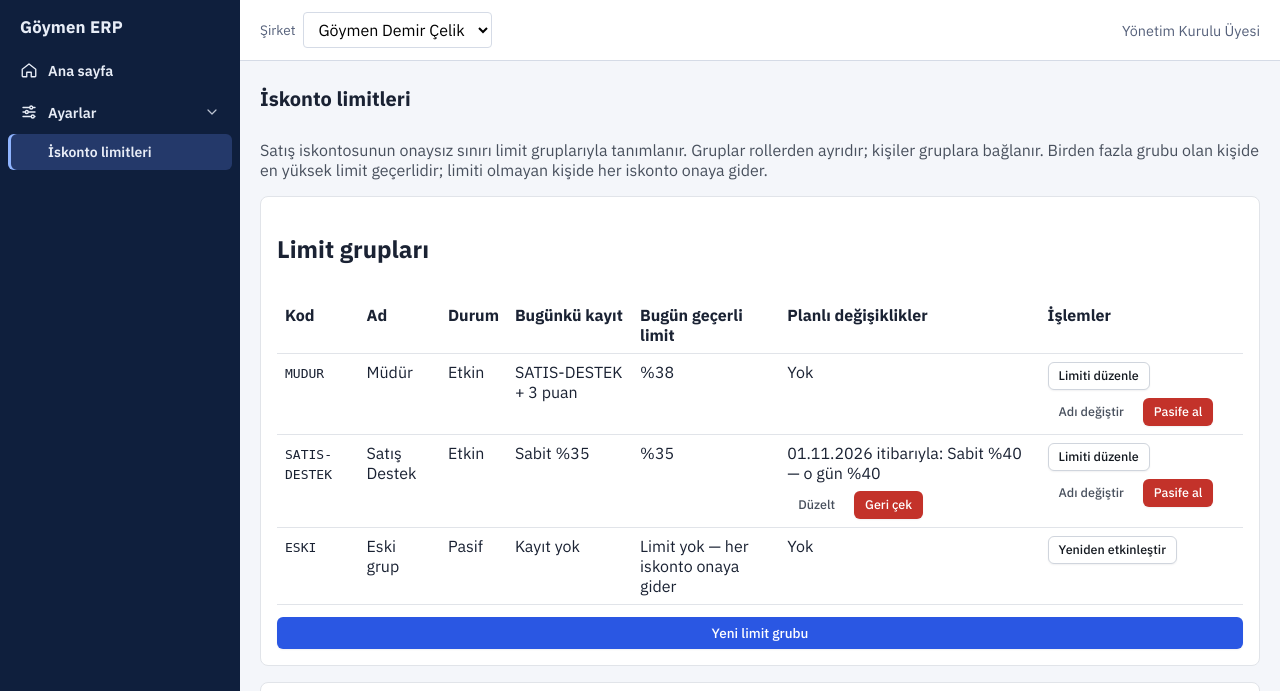
Test: İskonto limitleri — groups › SAT-D118: reactivates a passive group with a reason
This screenshot has width=1280, height=691.
Expected: the table named "Limit grupları ve limitleri" is shown, [277,297,1243,605]
Click the button "Yeniden etkinleştir" at (1112, 550), box [1048,536,1177,564]
(page scrolled)
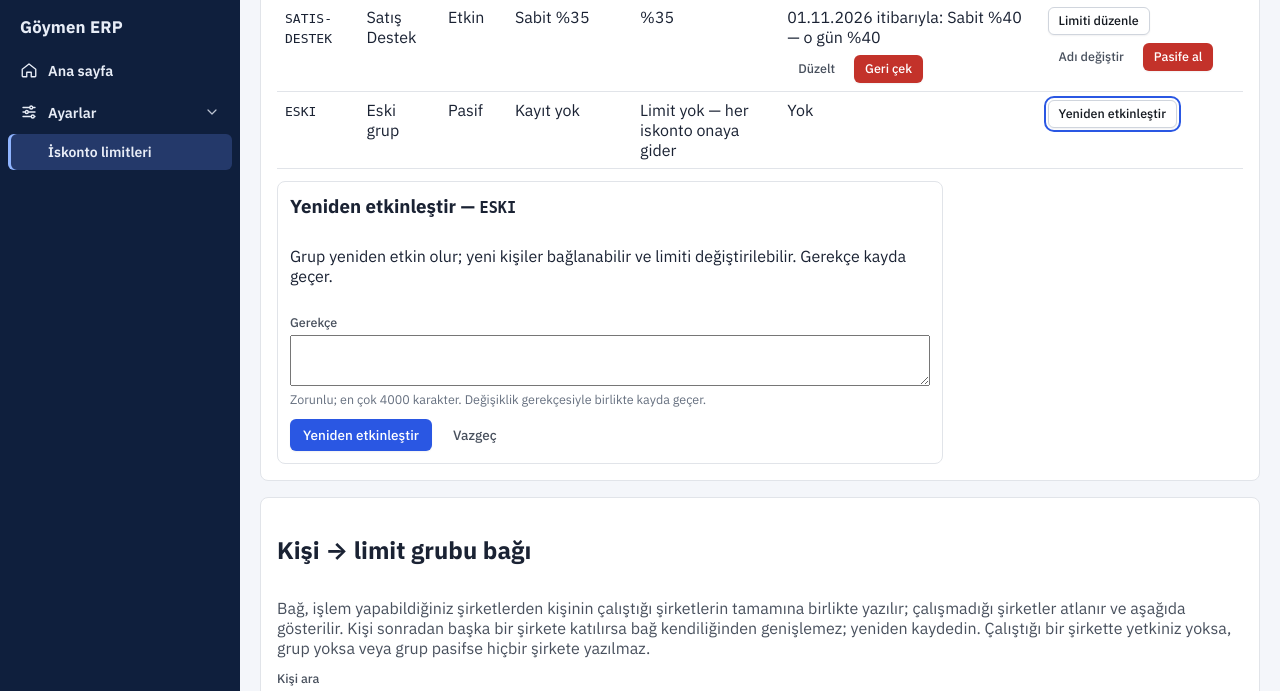
Expected: the text "Grup yeniden etkin olur; yeni kişiler bağlanabilir ve limiti değiştirilebilir. Gerekçe kayda geçer." is shown, [290,246,906,286]
Type "Yeniden kullanılacak" into the text box labelled "Gerekçe" at (610, 360), box [290,335,930,386]
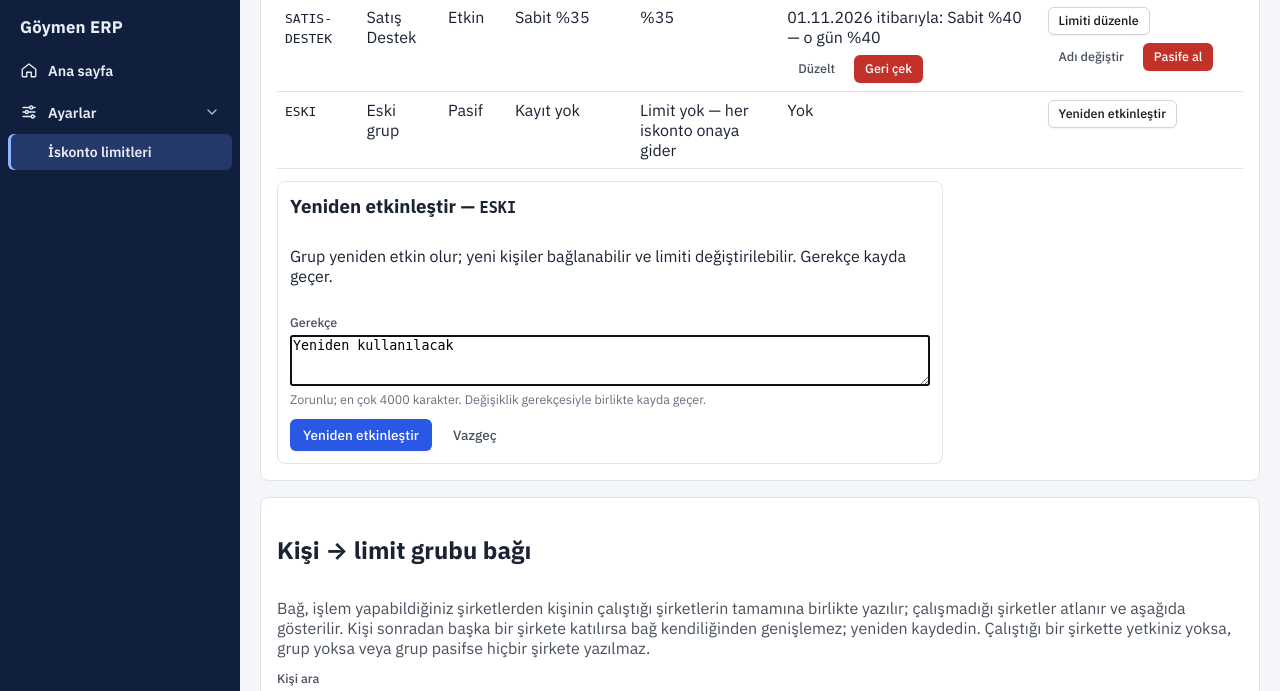
Click the 2nd button "Yeniden etkinleştir" at (361, 435), box [290,419,432,451]
(page scrolled)
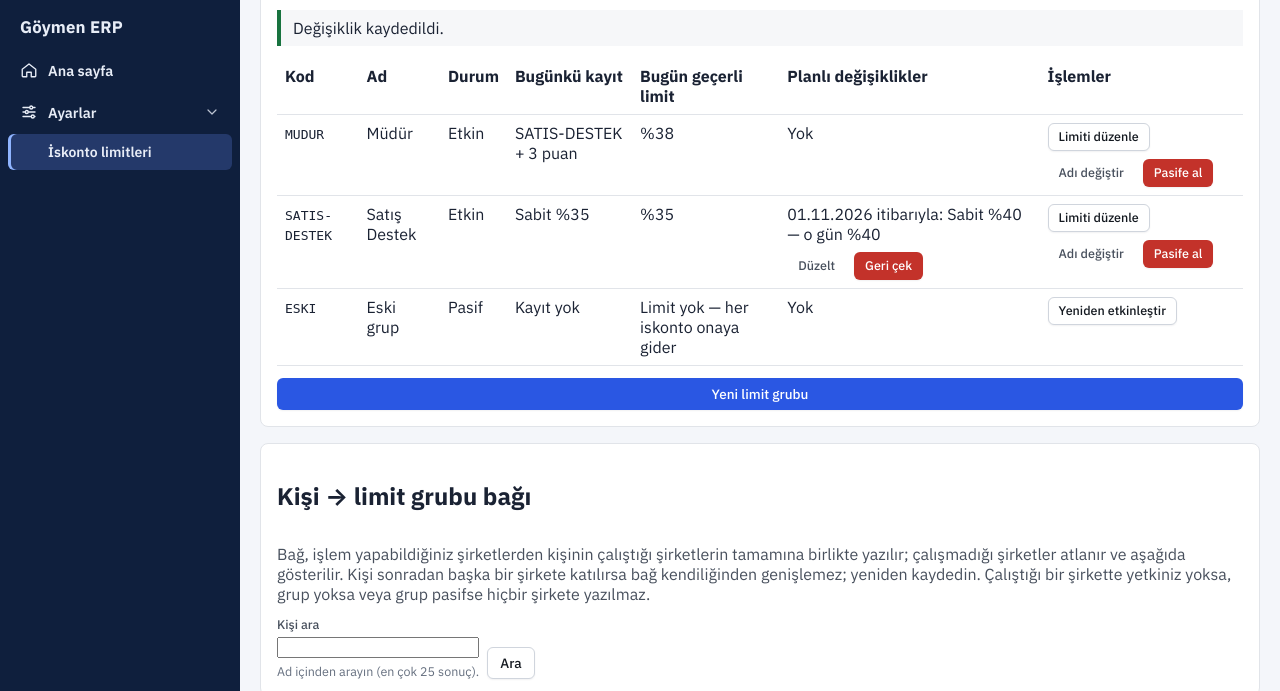
Expected: the message reads "Değişiklik kaydedildi.", [293,18,444,38]
